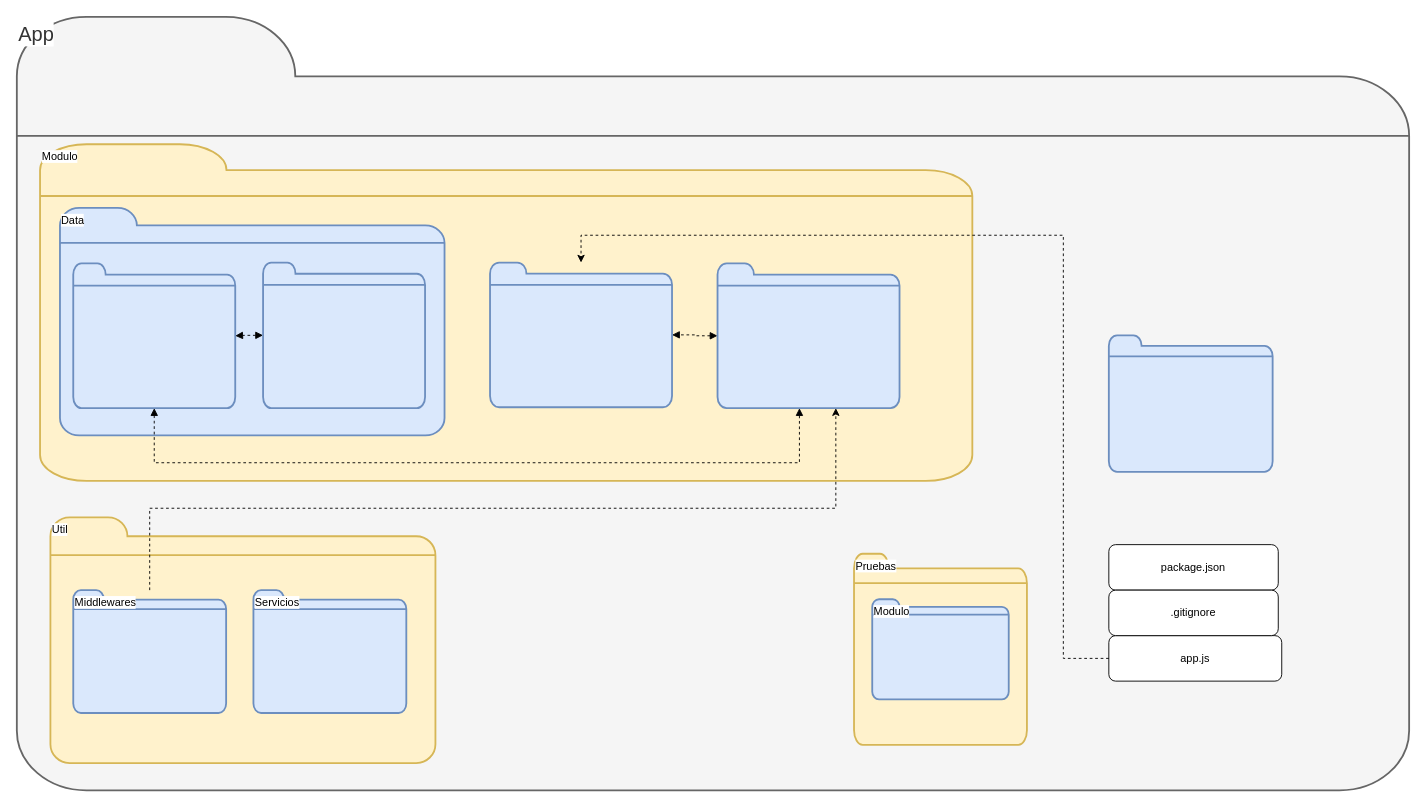
Some shapes in this 1425 by 806 pixel diagram are drawn without their labels. The centre of each missing label's shape, as x and y in pixels:
"Controladores" goes at (x=808, y=335).
"Modelos" goes at (x=344, y=335).
"node_modules" goes at (x=1190, y=403).
"Repositorios" goes at (x=154, y=335).
"Rutas" goes at (x=580, y=334).
